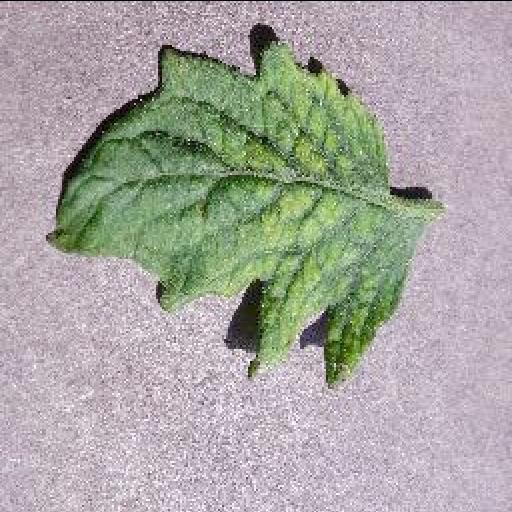disease_tomato: (44, 36, 426, 386)
